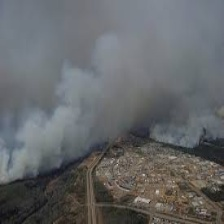smoke: (11, 14, 176, 161)
